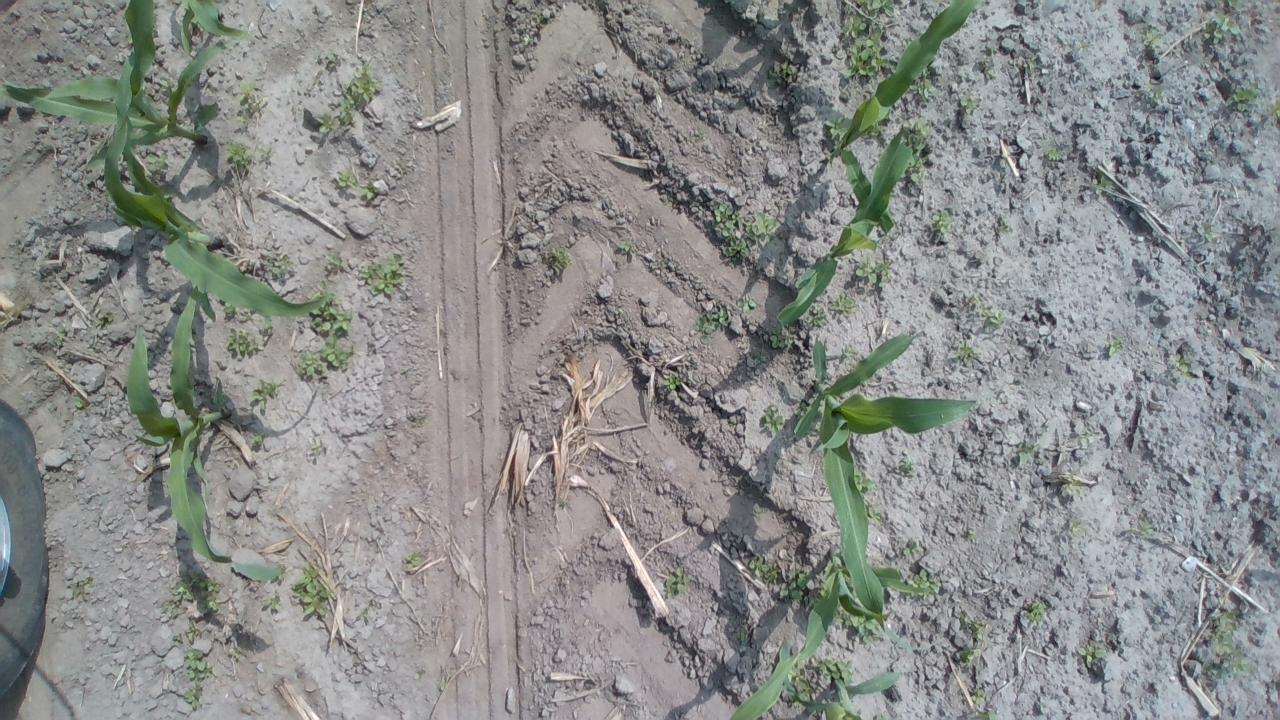Maize: (796, 335, 981, 629), (123, 283, 286, 582), (102, 103, 330, 316), (0, 0, 260, 177), (830, 0, 981, 238), (729, 551, 929, 720), (776, 129, 918, 330), (778, 639, 901, 720), (177, 0, 259, 53)
Weeds: (834, 0, 896, 80), (316, 64, 384, 134), (711, 200, 778, 266), (1202, 610, 1248, 681), (748, 558, 817, 602), (288, 559, 336, 619), (162, 574, 224, 616), (836, 607, 891, 647), (358, 252, 404, 296), (309, 296, 354, 336), (959, 289, 1004, 328), (690, 304, 729, 344), (222, 140, 274, 166), (904, 568, 942, 602), (1200, 13, 1240, 45), (855, 255, 892, 289), (182, 646, 216, 681), (904, 66, 936, 103), (320, 336, 354, 369), (966, 688, 1000, 720), (784, 671, 814, 706), (1226, 83, 1262, 112), (816, 656, 853, 684), (249, 378, 281, 410), (900, 118, 930, 152), (235, 80, 256, 125), (225, 326, 258, 354), (900, 156, 930, 184), (266, 254, 297, 280), (297, 349, 325, 377), (664, 568, 690, 598), (183, 680, 206, 712), (960, 612, 986, 640), (1076, 644, 1105, 668), (831, 290, 857, 316), (803, 302, 830, 326), (550, 244, 573, 272), (762, 404, 784, 433), (152, 80, 177, 104), (1024, 601, 1048, 626), (1062, 474, 1088, 497), (1169, 354, 1192, 380), (770, 326, 794, 350), (144, 151, 169, 174), (1142, 80, 1168, 102), (175, 622, 201, 644), (1017, 441, 1041, 464), (768, 60, 793, 82), (931, 211, 952, 237), (854, 469, 875, 495), (952, 342, 976, 364), (70, 574, 92, 596), (980, 48, 995, 80), (1090, 171, 1114, 191), (862, 500, 882, 524), (260, 590, 282, 610), (616, 238, 640, 256), (959, 94, 980, 114), (1142, 30, 1163, 50), (662, 373, 684, 392), (360, 182, 380, 202), (337, 169, 358, 188), (324, 254, 346, 272), (402, 551, 424, 569), (1132, 516, 1154, 534), (959, 644, 975, 668), (257, 314, 274, 336), (749, 348, 768, 366), (732, 622, 749, 642), (248, 430, 266, 448), (95, 312, 113, 330), (1069, 518, 1088, 534), (1268, 95, 1280, 120), (736, 298, 757, 312), (1200, 223, 1216, 241), (230, 643, 248, 659), (54, 326, 68, 346), (223, 302, 239, 319), (1106, 336, 1121, 354), (312, 279, 326, 298), (1044, 146, 1062, 160), (1022, 55, 1037, 71), (900, 455, 914, 472), (1079, 426, 1092, 443), (71, 397, 87, 410), (903, 543, 919, 556), (310, 439, 322, 456), (896, 38, 912, 50), (841, 346, 853, 361), (689, 130, 704, 142), (794, 405, 808, 417), (522, 34, 534, 47), (436, 677, 449, 689), (162, 190, 174, 202), (809, 594, 821, 606), (1227, 0, 1241, 10), (967, 526, 977, 540), (326, 50, 337, 62), (131, 224, 142, 236), (996, 224, 1010, 232), (872, 369, 882, 378), (1078, 42, 1088, 48)
